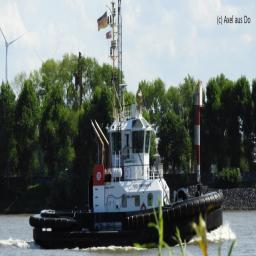tugboat: (29, 4, 226, 254)
